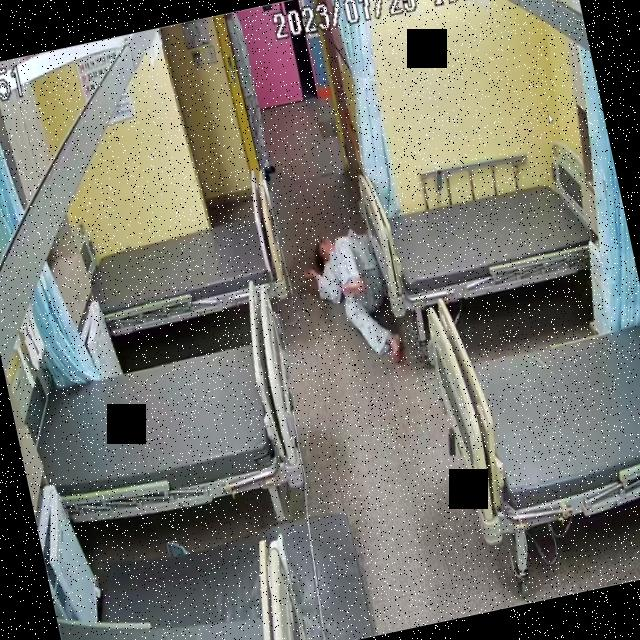bed: (418, 257, 640, 542), (21, 327, 310, 530), (358, 154, 612, 319), (84, 201, 288, 336)
fall: (286, 208, 406, 391)
patient: (284, 204, 406, 390)
